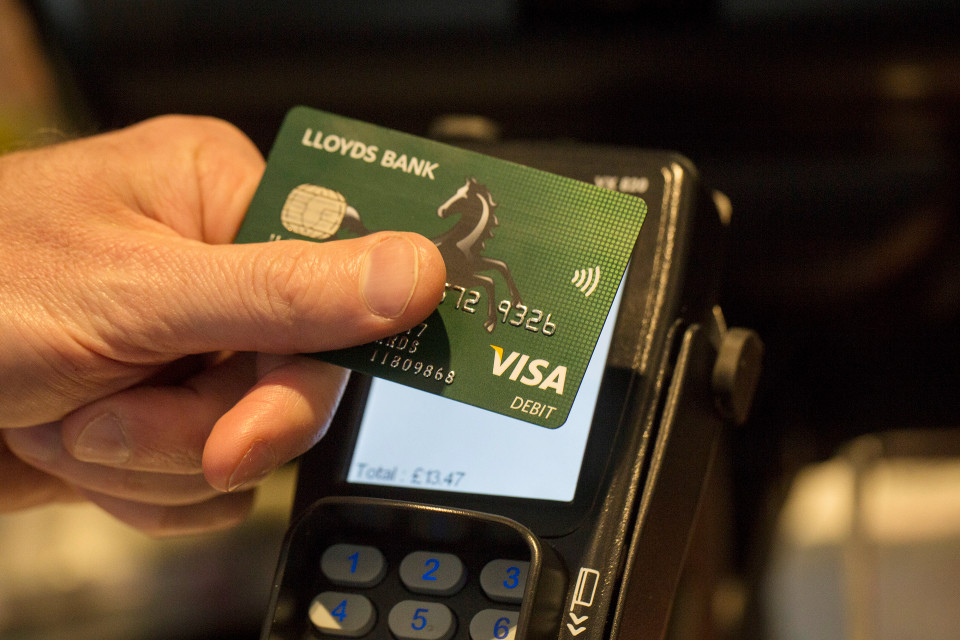tarjeta: (228, 105, 653, 431)
